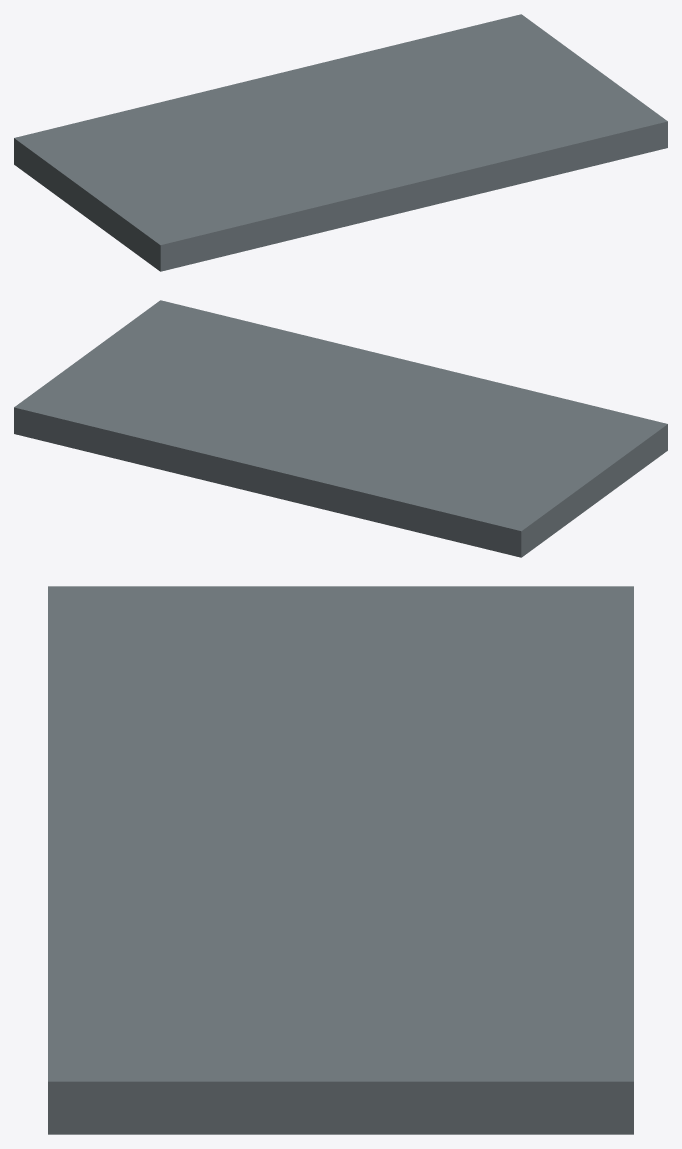
3 renders of one model, top to bottom at view 1: azimuth 30°, elevation 25°; view 2: azimuth 150°, elevation 25°; view 3: azimuth 270°, elevation 25°, orthographic. The views are drawn at different scales.
Parts seen in each view (by area): view 1: base_Cube.953; view 2: base_Cube.953; view 3: base_Cube.953.
Boxes of the visible parts, x1,y1,x2,y2 form: base_Cube.953: [14, 14, 667, 271]; base_Cube.953: [14, 300, 667, 557]; base_Cube.953: [48, 586, 633, 1134].
Size of the model in its own units: 2 by 0.1 by 1.
1 material, 1 textured.
